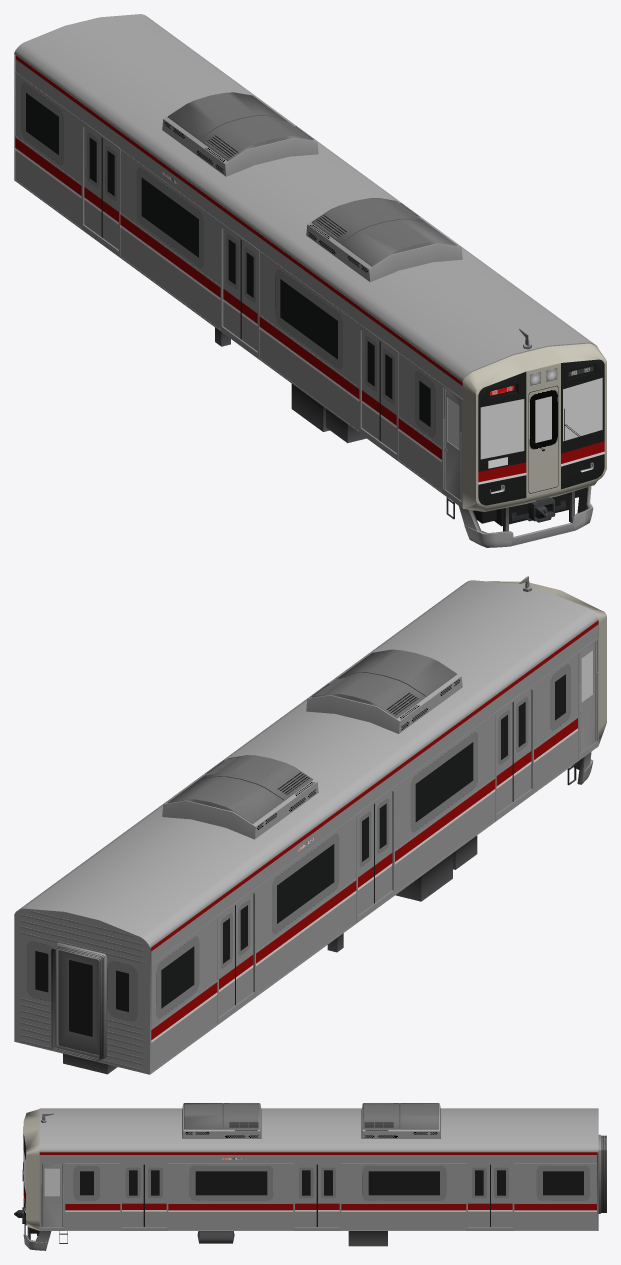
File: AMB_HS9000_00.glb
3 renders of one model, top to bottom at view 1: azimuth 30°, elevation 25°; view 2: azimuth 150°, elevation 25°; view 3: azimuth 270°, elevation 25°, orthographic. The views are drawn at different scales.
Parts seen in each view (by area): view 1: to; view 2: to; view 3: to.
Part boxes in pixels (box(x1,y1,x2,y2)): to: box(14, 14, 606, 547); to: box(14, 576, 606, 1074); to: box(14, 1103, 606, 1250).
Size of the model in its own units: 6.65 by 9.25 by 39.95.
Materials: 41 (40 with a texture image).
